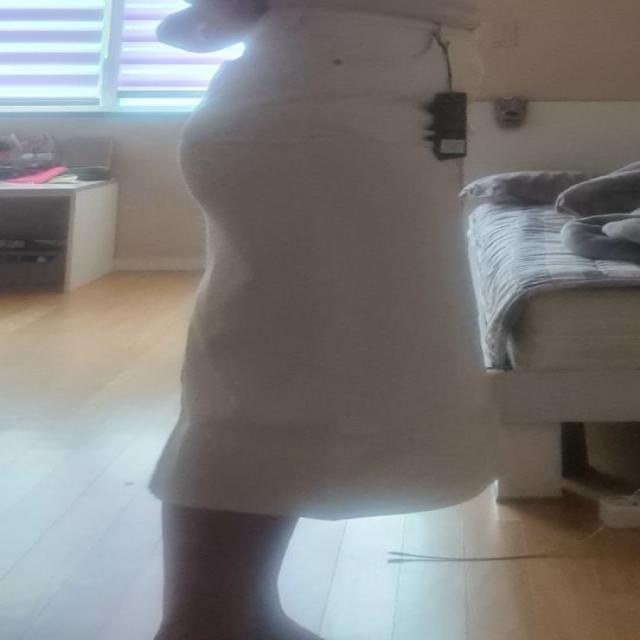skirt: (152, 2, 510, 524)
